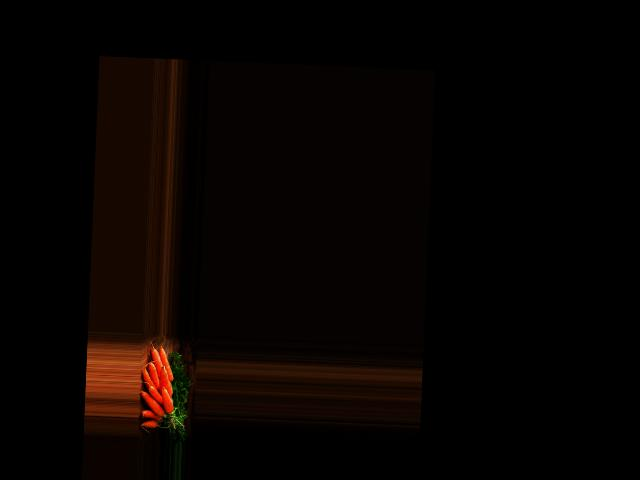carrot: (141, 419, 160, 430)
